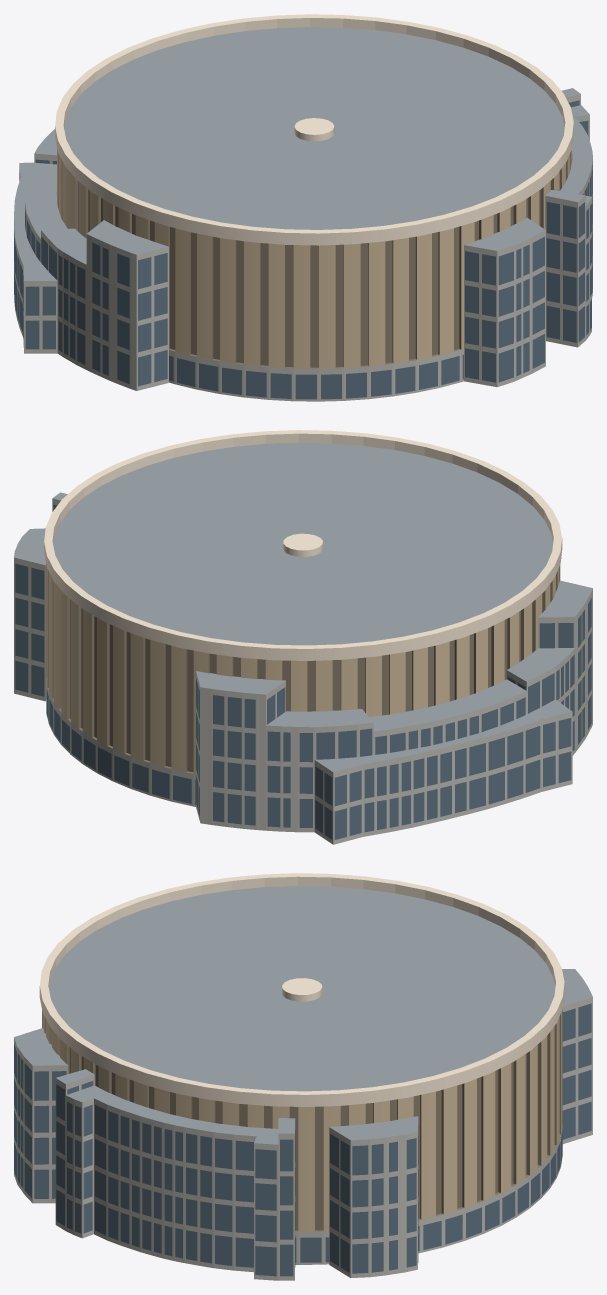
The picture shows the model from 3 angles, top to bottom: view 1: azimuth 30°, elevation 25°; view 2: azimuth 150°, elevation 25°; view 3: azimuth 270°, elevation 25°; orthographic projection.
Visible parts, largest first — view 1: madison-square-garden; view 2: madison-square-garden; view 3: madison-square-garden.
Boxes of the visible parts, x1=… form: madison-square-garden: x1=14, y1=14, x2=592, y2=401; madison-square-garden: x1=14, y1=430, x2=592, y2=844; madison-square-garden: x1=14, y1=873, x2=592, y2=1280.
Size of the model in its own units: 154 by 46.5 by 143.
